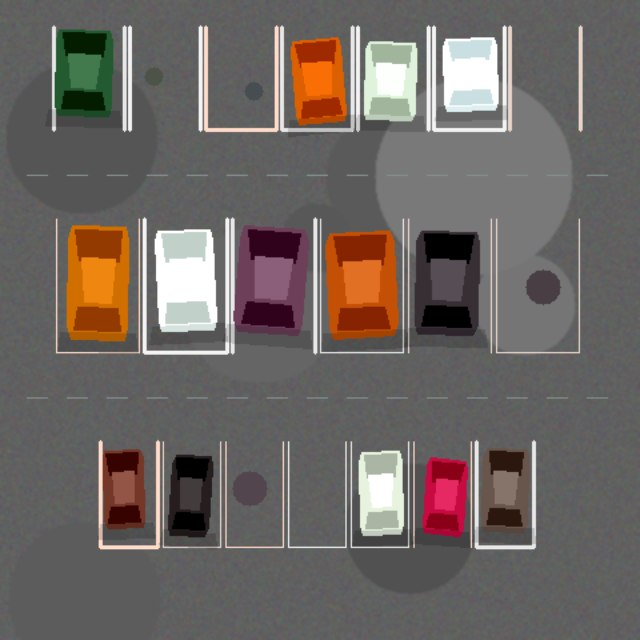space-empty: (496, 219, 579, 352), (129, 27, 200, 129), (205, 27, 276, 129), (509, 27, 580, 129), (225, 441, 283, 547), (288, 441, 345, 547)
space-occupied: (56, 219, 139, 352), (144, 219, 227, 352), (232, 219, 315, 352), (320, 219, 403, 352), (408, 219, 491, 352), (53, 27, 124, 129), (281, 27, 352, 129), (357, 27, 428, 129), (433, 27, 504, 129), (413, 441, 471, 547), (100, 441, 157, 547), (163, 441, 220, 547), (351, 441, 408, 547), (476, 441, 533, 547)
